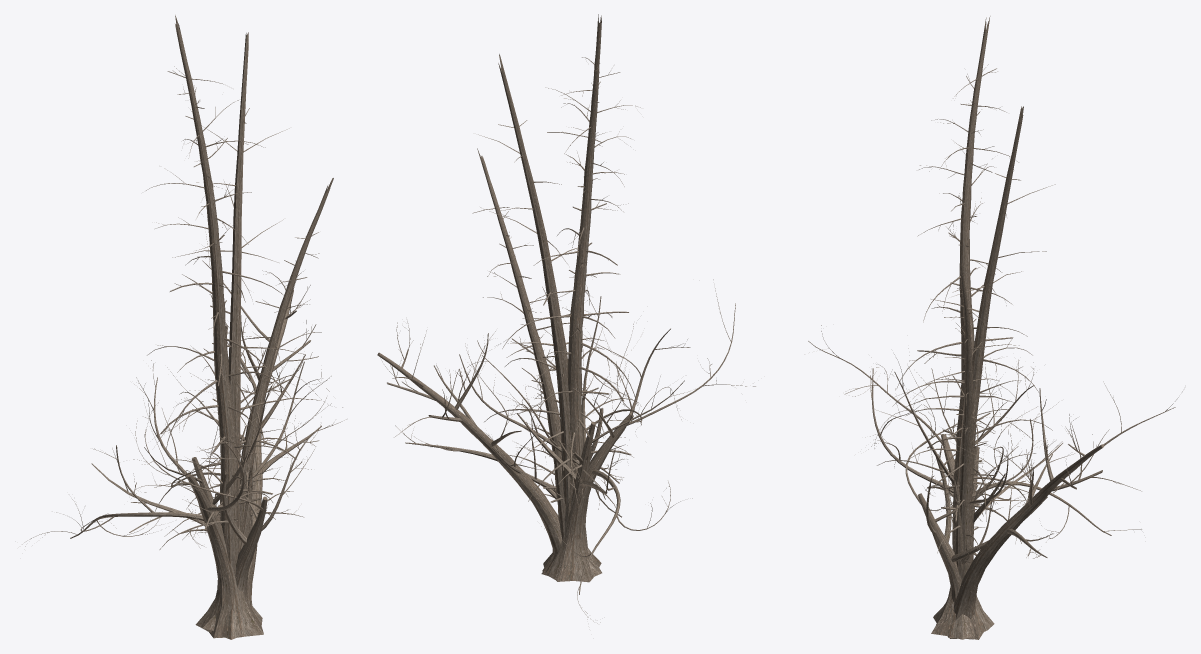
File: trees.glb
3 renders of one model, left to right at view 1: azimuth 30°, elevation 25°; view 2: azimuth 150°, elevation 25°; view 3: azimuth 270°, elevation 25°, orthographic. The views are drawn at different scales.
Parts seen in each view (by area): view 1: tree_snag_a, tree_twisted_a, tree_far_snag, tree_snag_b, tree_twisted_b, tree_lean, tree_far_twisted, tree_broken; view 2: tree_snag_a, tree_twisted_a, tree_far_snag, tree_lean, tree_snag_b, tree_far_twisted, tree_twisted_b; view 3: tree_snag_a, tree_lean, tree_twisted_a, tree_snag_b, tree_far_snag, tree_twisted_b, tree_far_twisted, tree_broken.
Boxes of the visible parts, x1=… form: tree_snag_a: x1=146, y1=15, x2=298, y2=570; tree_twisted_a: x1=22, y1=360, x2=331, y2=637; tree_far_snag: x1=164, y1=32, x2=320, y2=575; tree_snag_b: x1=186, y1=178, x2=333, y2=533; tree_twisted_b: x1=133, y1=373, x2=342, y2=630; tree_lean: x1=184, y1=234, x2=346, y2=609; tree_far_twisted: x1=91, y1=348, x2=295, y2=638; tree_broken: x1=206, y1=463, x2=253, y2=639; tree_snag_a: x1=484, y1=14, x2=641, y2=535; tree_twisted_a: x1=459, y1=279, x2=755, y2=623; tree_far_snag: x1=478, y1=54, x2=613, y2=509; tree_lean: x1=377, y1=321, x2=561, y2=555; tree_snag_b: x1=472, y1=148, x2=633, y2=538; tree_far_twisted: x1=517, y1=288, x2=689, y2=576; tree_twisted_b: x1=464, y1=324, x2=681, y2=575; tree_snag_a: x1=877, y1=16, x2=1058, y2=560; tree_lean: x1=949, y1=381, x2=1182, y2=639; tree_twisted_a: x1=808, y1=325, x2=1141, y2=639; tree_snag_b: x1=925, y1=263, x2=1019, y2=580; tree_far_snag: x1=906, y1=106, x2=1055, y2=553; tree_twisted_b: x1=868, y1=348, x2=1047, y2=639; tree_far_twisted: x1=875, y1=354, x2=1062, y2=631; tree_broken: x1=933, y1=478, x2=982, y2=636.
Bounding box in the file's own units: 13.1 × 24.98 × 14.76.
Materials: 1 (1 with a texture image).
